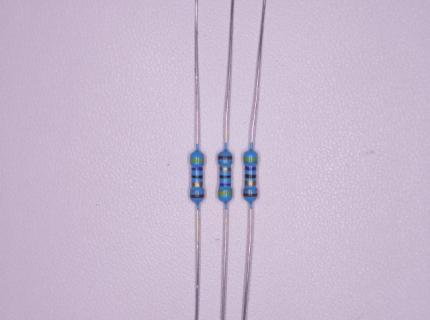Black band: (244, 173, 256, 179), (191, 175, 203, 179), (219, 174, 231, 178)
Brown band: (242, 192, 258, 197), (218, 155, 233, 160), (190, 193, 205, 198)
Gold band: (244, 180, 256, 186), (192, 181, 203, 187), (219, 167, 231, 171)
Violet band: (245, 166, 256, 171), (219, 182, 231, 186), (191, 167, 203, 171)
Yellow band: (243, 157, 259, 163), (218, 190, 232, 196), (189, 158, 204, 163)
